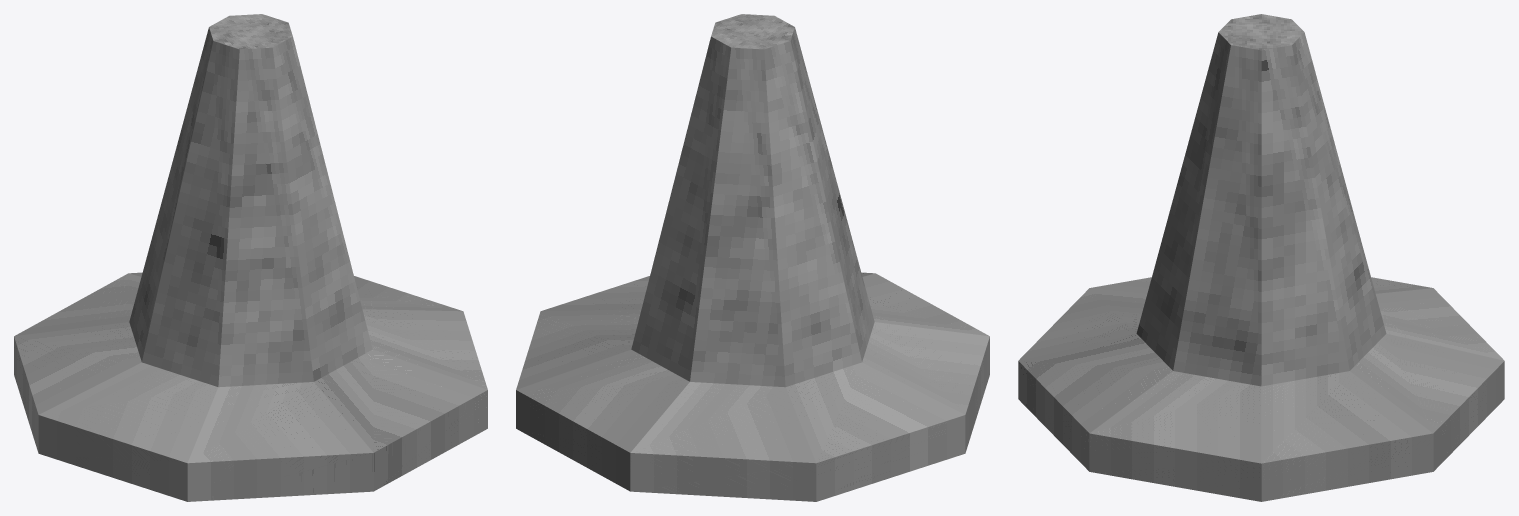
Rendered from Conus.fbx.
3 views of the same model, side by side, from view 1: azimuth 30°, elevation 25°; view 2: azimuth 150°, elevation 25°; view 3: azimuth 270°, elevation 25° (orthographic).
Parts seen in each view (by area): view 1: Cylinder.001; view 2: Cylinder.001; view 3: Cylinder.001.
Part boxes in pixels (<box>): Cylinder.001: <box>14,14,487,501</box>; Cylinder.001: <box>516,14,989,501</box>; Cylinder.001: <box>1018,14,1504,501</box>.
Size of the model in its own units: 142 by 118 by 142.
